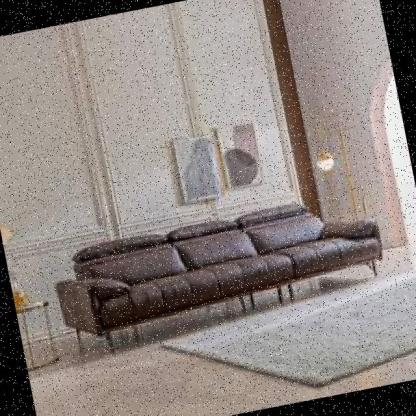Sofa: (42, 171, 404, 378)
